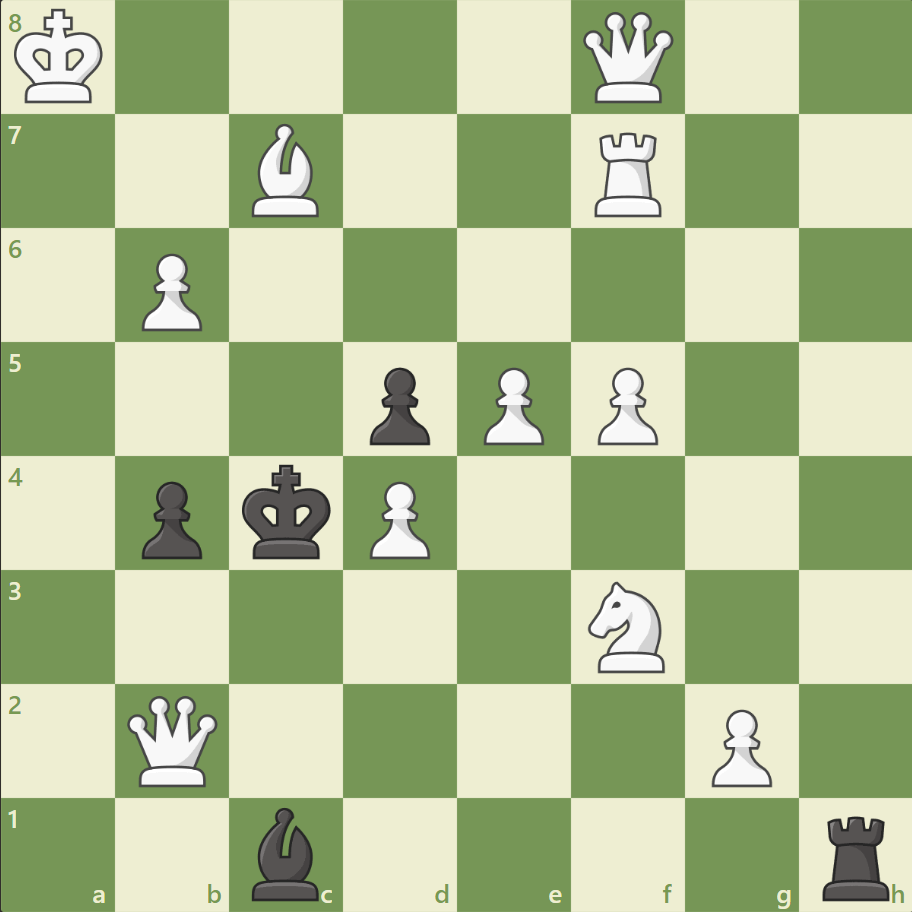B: (244, 120, 328, 222)
K: (11, 4, 111, 112)
N: (579, 575, 676, 677)
P: (133, 246, 208, 337), (474, 359, 549, 450), (701, 700, 776, 791), (588, 359, 662, 450), (361, 473, 435, 564)
Q: (578, 9, 677, 108), (124, 690, 223, 789)
R: (587, 125, 670, 222)
b: (244, 801, 328, 904)
k: (238, 458, 338, 566)
p: (133, 473, 208, 564), (361, 359, 435, 450)
r: (814, 806, 897, 904)
